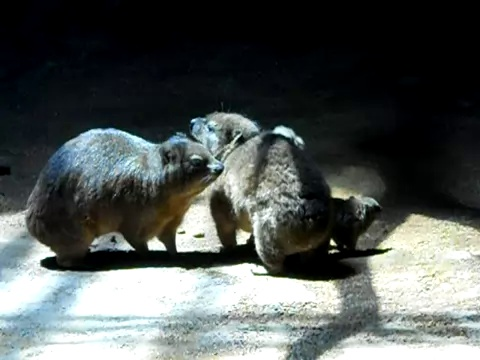Rock Hyrex: (24, 126, 225, 268), (188, 112, 337, 279)
